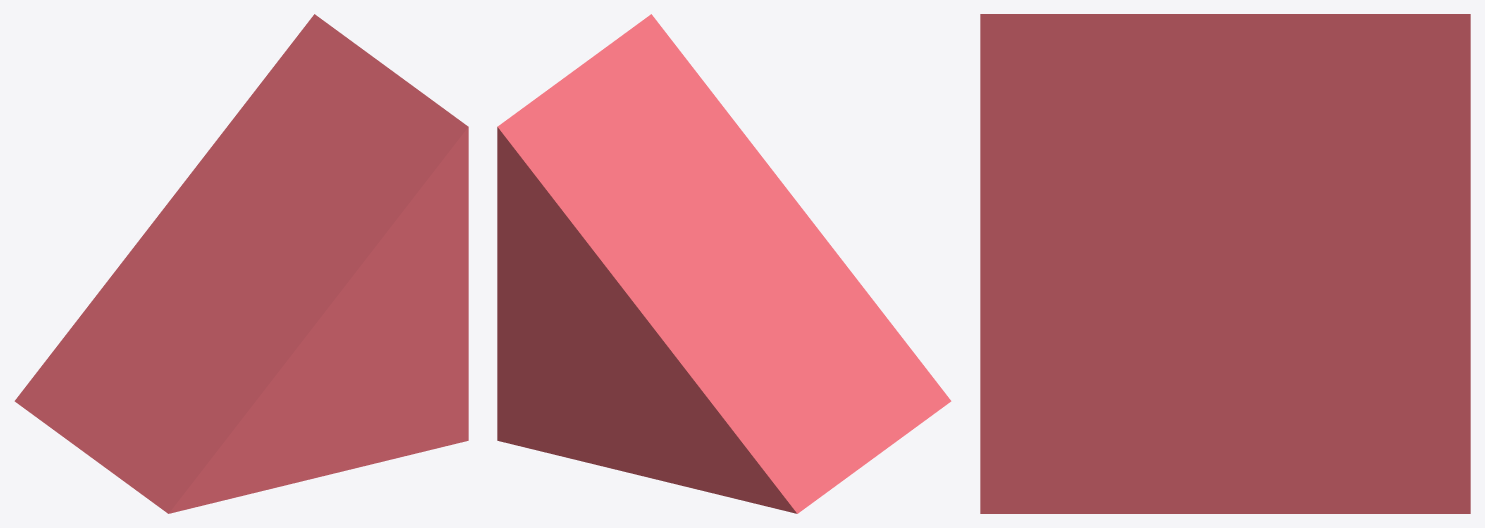
File: Lvl 6 10.fbx
3 renders of one model, left to right at view 1: azimuth 30°, elevation 25°; view 2: azimuth 150°, elevation 25°; view 3: azimuth 270°, elevation 25°, orthographic. The views are drawn at different scales.
Parts seen in each view (by area): view 1: Cube.057; view 2: Cube.057; view 3: Cube.057.
Part boxes in pixels (left/top/right/bottom): Cube.057: left=14, top=14, right=468, bottom=513; Cube.057: left=497, top=14, right=951, bottom=513; Cube.057: left=980, top=14, right=1470, bottom=513.
Size of the model in its own units: 226 by 226 by 201.
